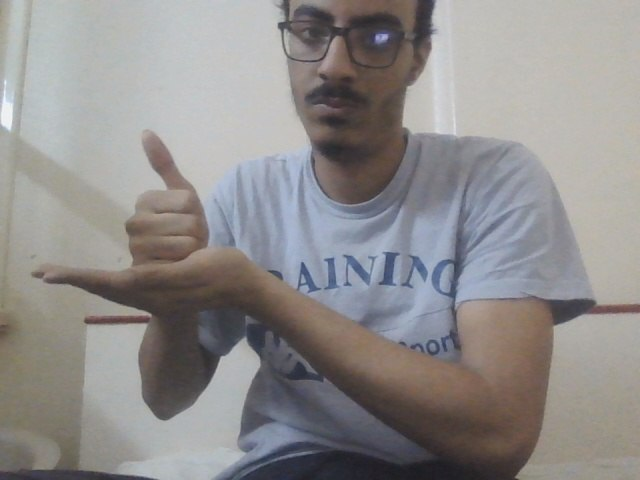Help: (30, 127, 253, 324)
